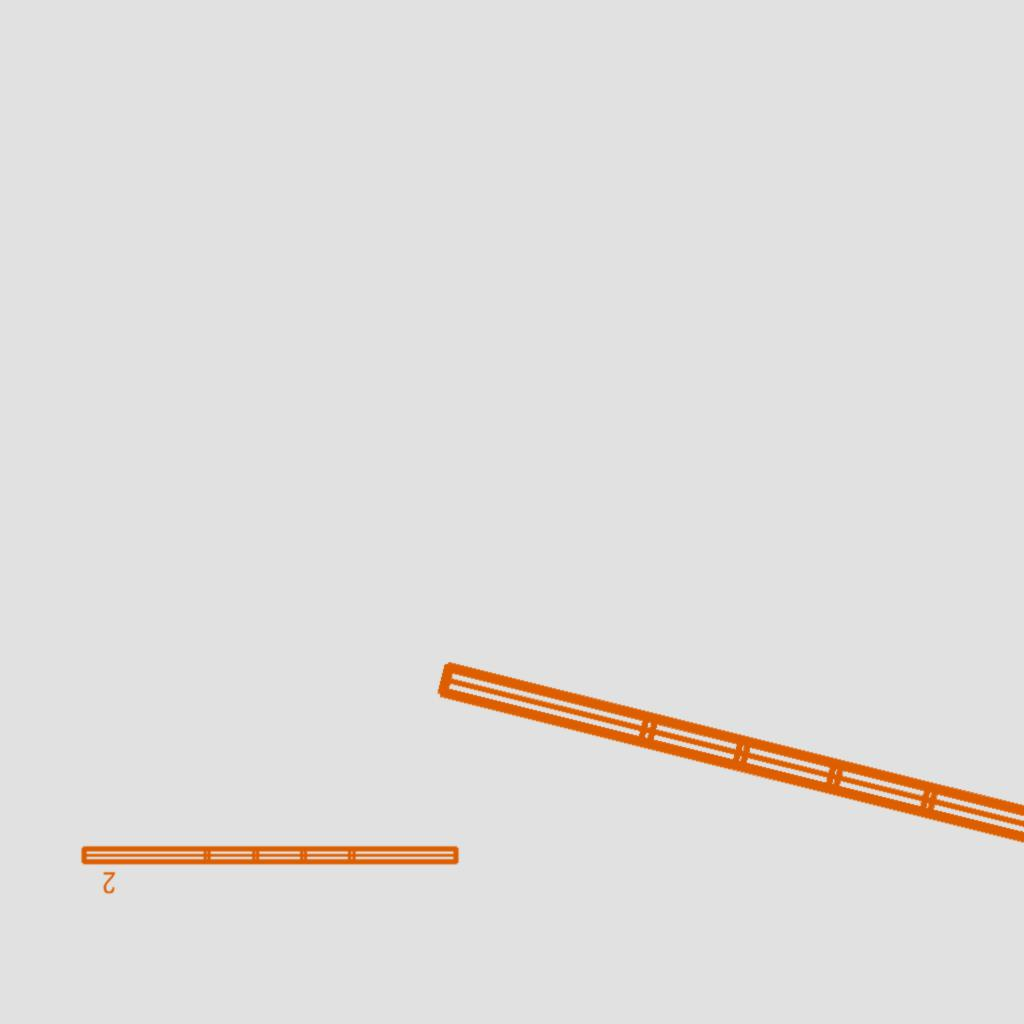Ambulanz_Pendelleuchte_LED: (422, 597, 1024, 893), (77, 840, 464, 896)
